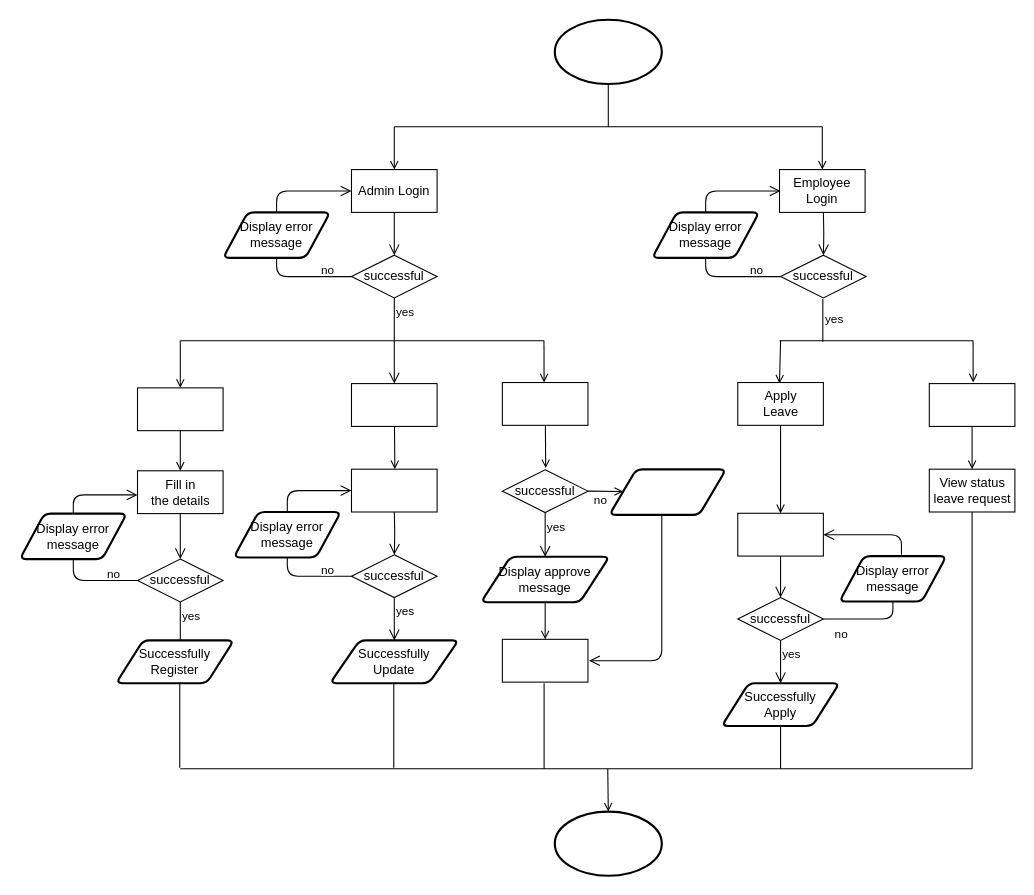
Image size: 1034x895. Some labels were removed from this diagram. The centre of each missing label's shape, as x and y in pixels:
"Add Employee" belongs at point (179, 409).
"Change the details" belongs at point (393, 490).
"Display decline message" belongs at point (667, 491).
"end" belongs at point (607, 843).
"Fill in the leave form" belongs at point (780, 534).
"Leave Status" belongs at point (971, 404).
"Manage Employee" belongs at point (393, 404).
"Manage Leave" belongs at point (544, 403).
"start" belongs at point (607, 51).
"Upadated status" belongs at point (544, 660).
